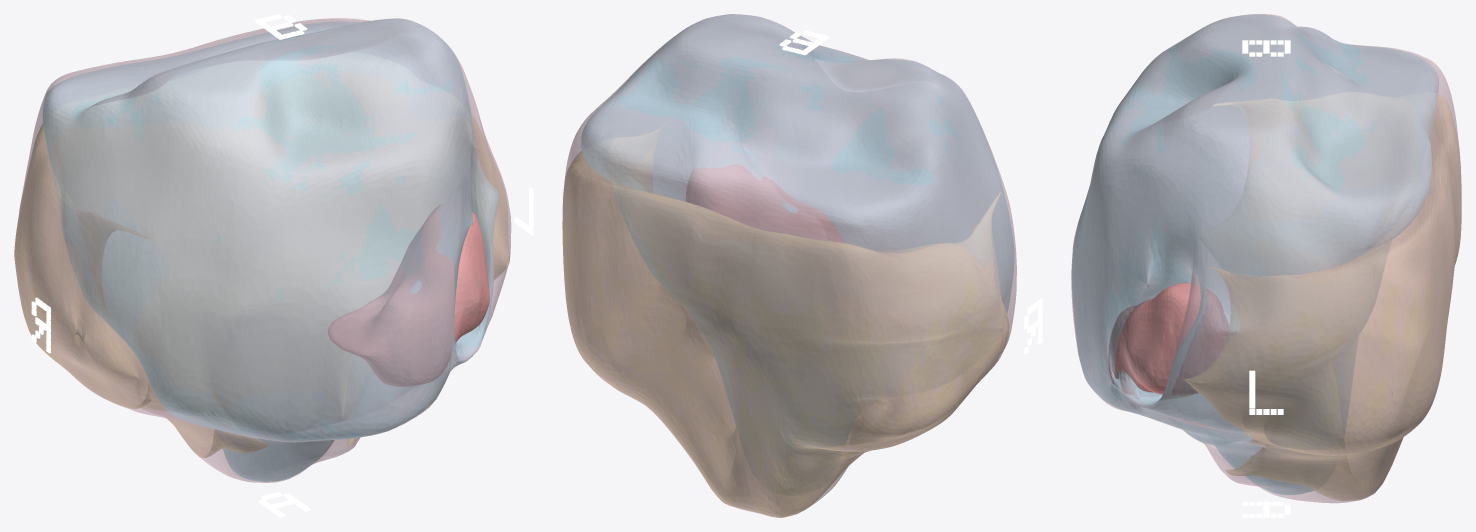
The picture shows the model from 3 angles, left to right: view 1: azimuth 30°, elevation 25°; view 2: azimuth 150°, elevation 25°; view 3: azimuth 270°, elevation 25°; orthographic projection. The views are drawn at different scales.
Visible parts, largest first — view 1: prostate_gland, transition_zone, peripheral_zone, lesion_01, pv_ar_marker_B, pv_ar_marker_R; view 2: prostate_gland, peripheral_zone, transition_zone, lesion_01, pv_ar_marker_B, pv_ar_marker_R; view 3: prostate_gland, transition_zone, peripheral_zone, lesion_01, pv_ar_marker_B, pv_ar_marker_A, pv_ar_marker_L.
Part boxes in pixels (left/top/right/bottom): prostate_gland: left=14, top=18, right=511, bottom=482; transition_zone: left=43, top=19, right=499, bottom=481; peripheral_zone: left=14, top=114, right=509, bottom=457; lesion_01: left=328, top=204, right=489, bottom=386; pv_ar_marker_B: left=255, top=14, right=306, bottom=39; pv_ar_marker_R: left=31, top=297, right=50, bottom=353; prostate_gland: left=562, top=14, right=1016, bottom=517; peripheral_zone: left=562, top=132, right=1009, bottom=517; transition_zone: left=581, top=14, right=1013, bottom=443; lesion_01: left=686, top=164, right=845, bottom=242; pv_ar_marker_B: left=779, top=30, right=829, bottom=55; pv_ar_marker_R: left=1024, top=299, right=1042, bottom=354; prostate_gland: left=1071, top=14, right=1461, bottom=503; transition_zone: left=1072, top=14, right=1438, bottom=494; peripheral_zone: left=1183, top=94, right=1461, bottom=500; lesion_01: left=1108, top=283, right=1228, bottom=396; pv_ar_marker_B: left=1242, top=40, right=1290, bottom=56; pv_ar_marker_A: left=1242, top=501, right=1290, bottom=517; pv_ar_marker_L: left=1249, top=370, right=1283, bottom=414.
Size of the model in its own units: 0.0559 by 0.0529 by 0.0404.
